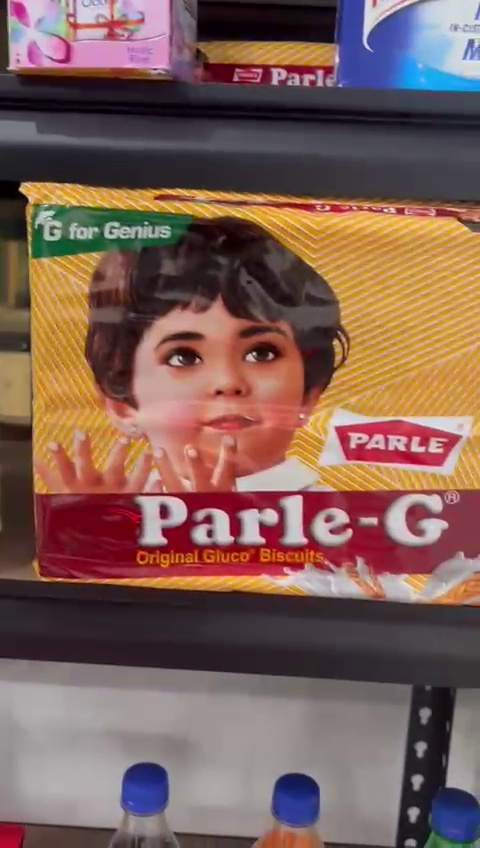Parle-G: (22, 181, 480, 603)
